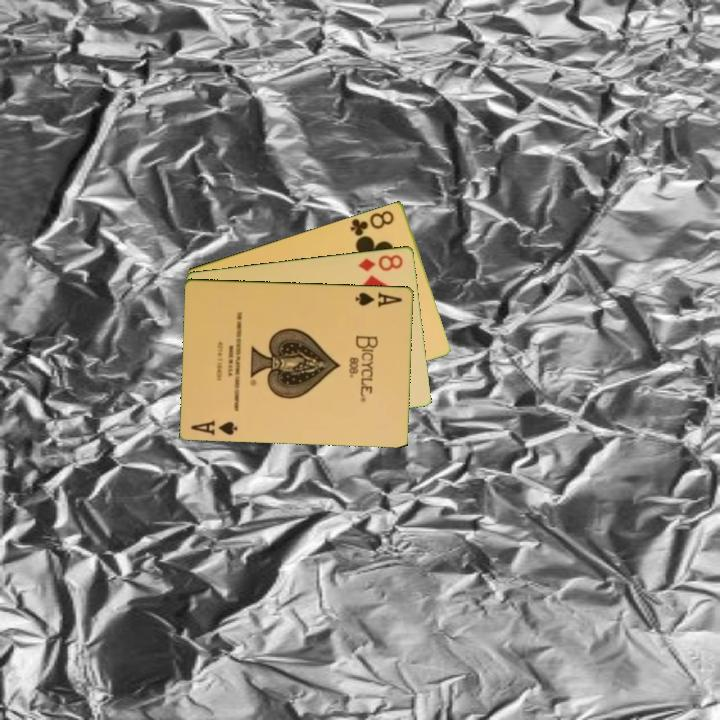8c: (347, 206, 397, 242)
8d: (355, 250, 406, 274)
As: (352, 288, 405, 310), (187, 416, 241, 437)
